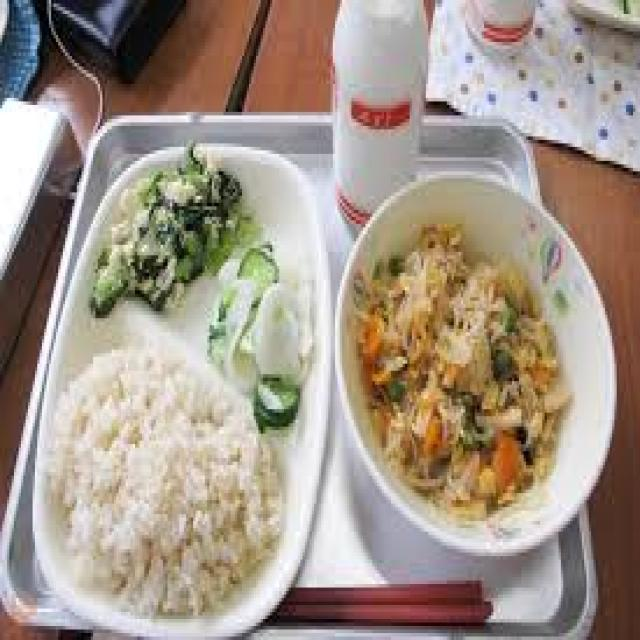Green veg: (91, 143, 272, 315)
Non green veg: (354, 224, 568, 514), (207, 241, 312, 409)
Rice: (49, 343, 279, 616)
